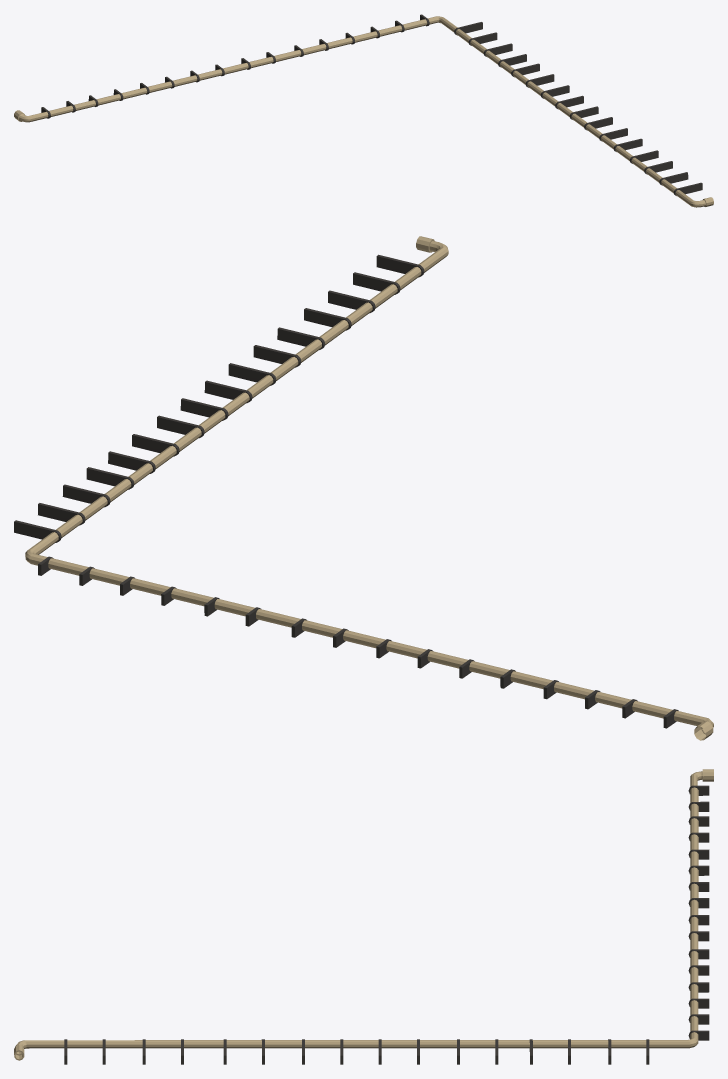
File: pines_medium.fbx
3 views of the same model, one above another, from view 1: azimuth 30°, elevation 25°; view 2: azimuth 150°, elevation 25°; view 3: azimuth 270°, elevation 25° (orthographic). The views are drawn at different scales.
Parts seen in each view (by area): view 1: polySurface143; view 2: polySurface143; view 3: polySurface143.
Boxes of the visible parts, x1,y1,x2,y2 form: polySurface143: [49, 16, 713, 207]; polySurface143: [25, 236, 672, 718]; polySurface143: [14, 787, 698, 1060].
Bounding box in the file's own units: 5.79 × 0.1083 × 5.97.
